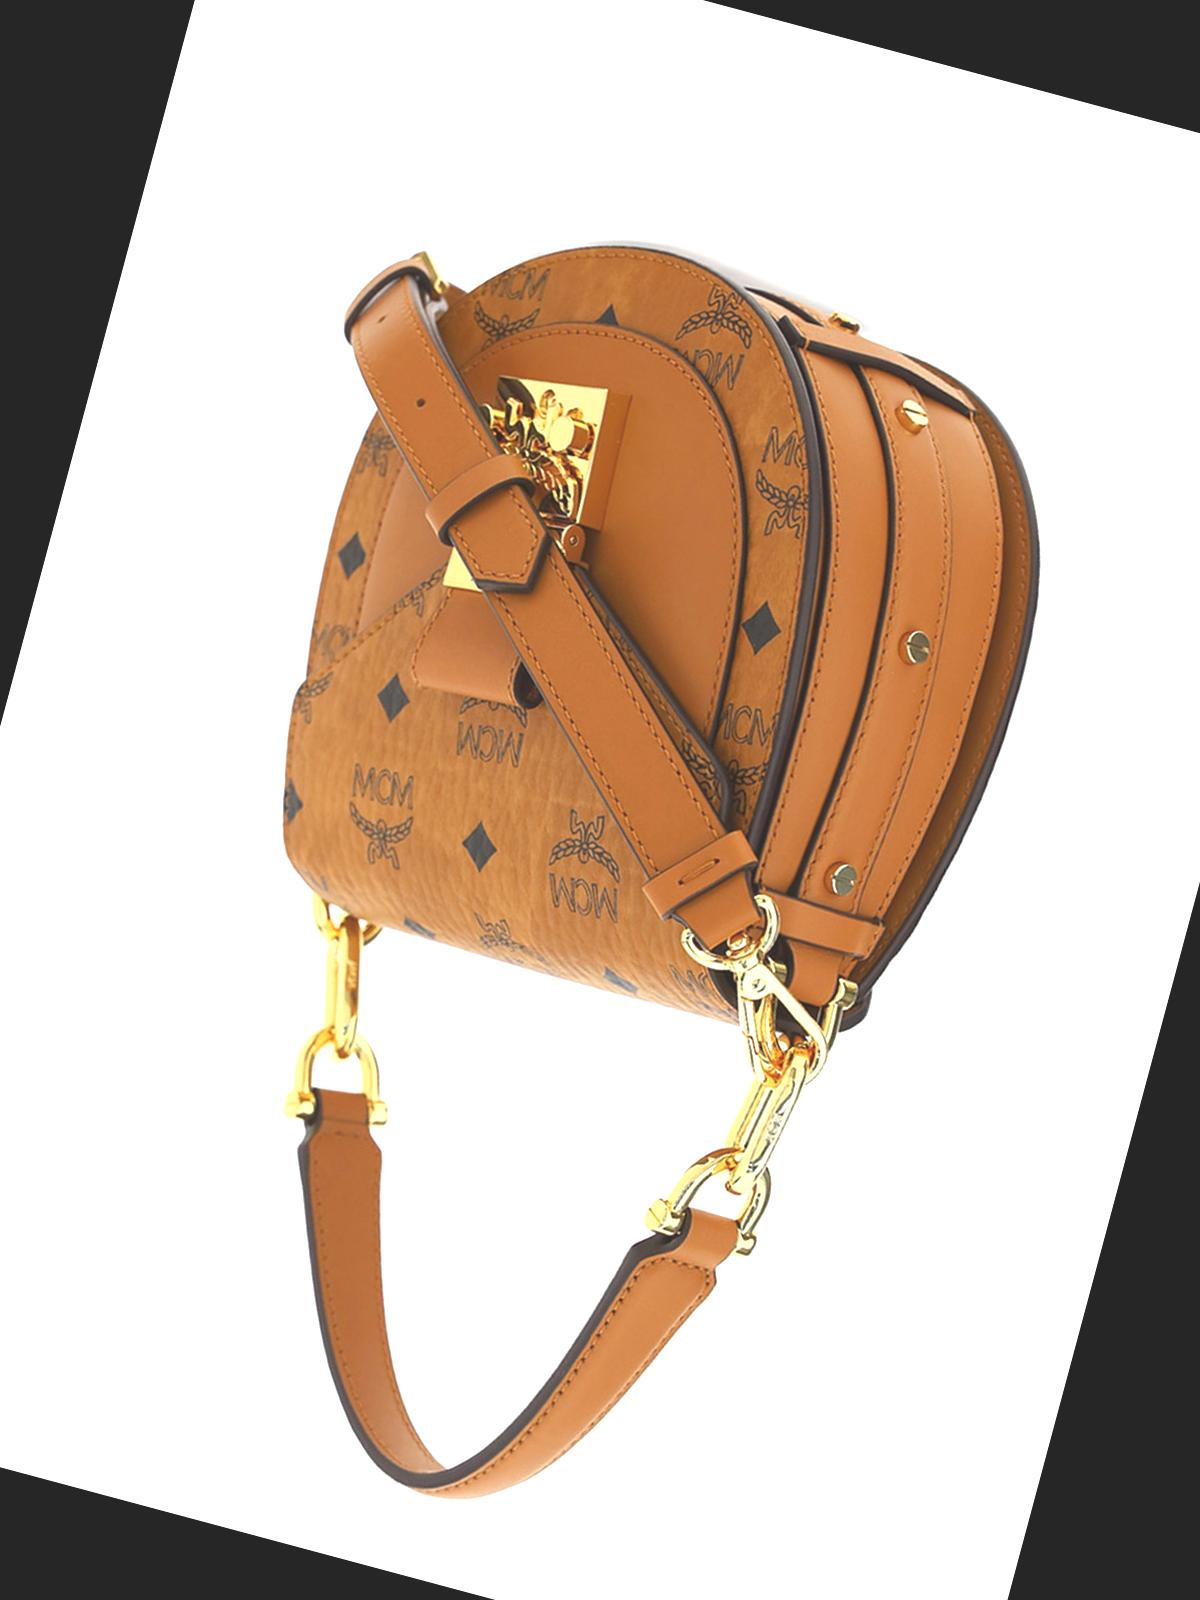MCM: (194, 161, 1078, 1090)
